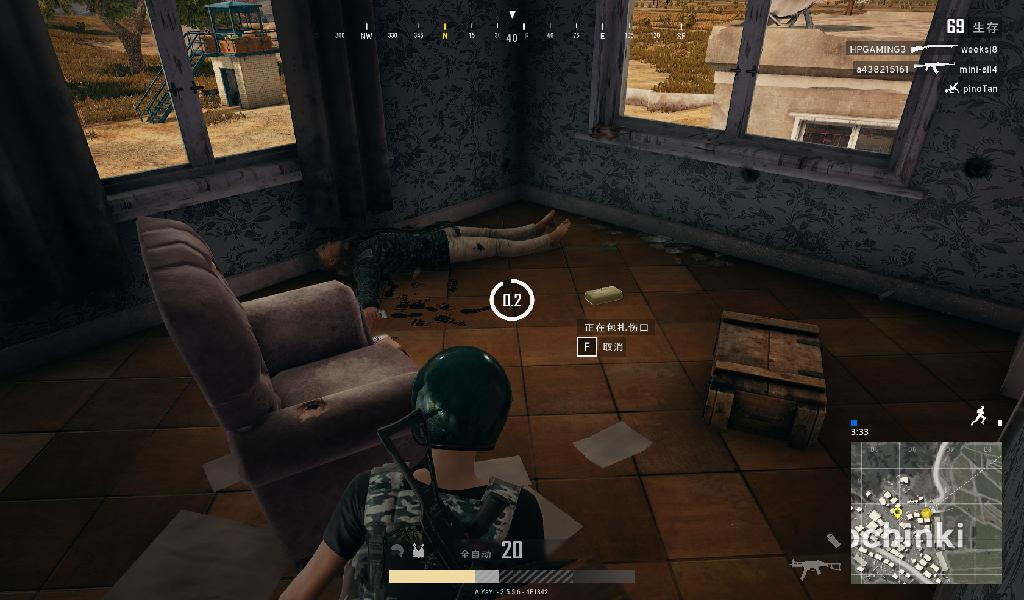Target Person: (284, 344, 554, 600), (307, 206, 577, 324)
